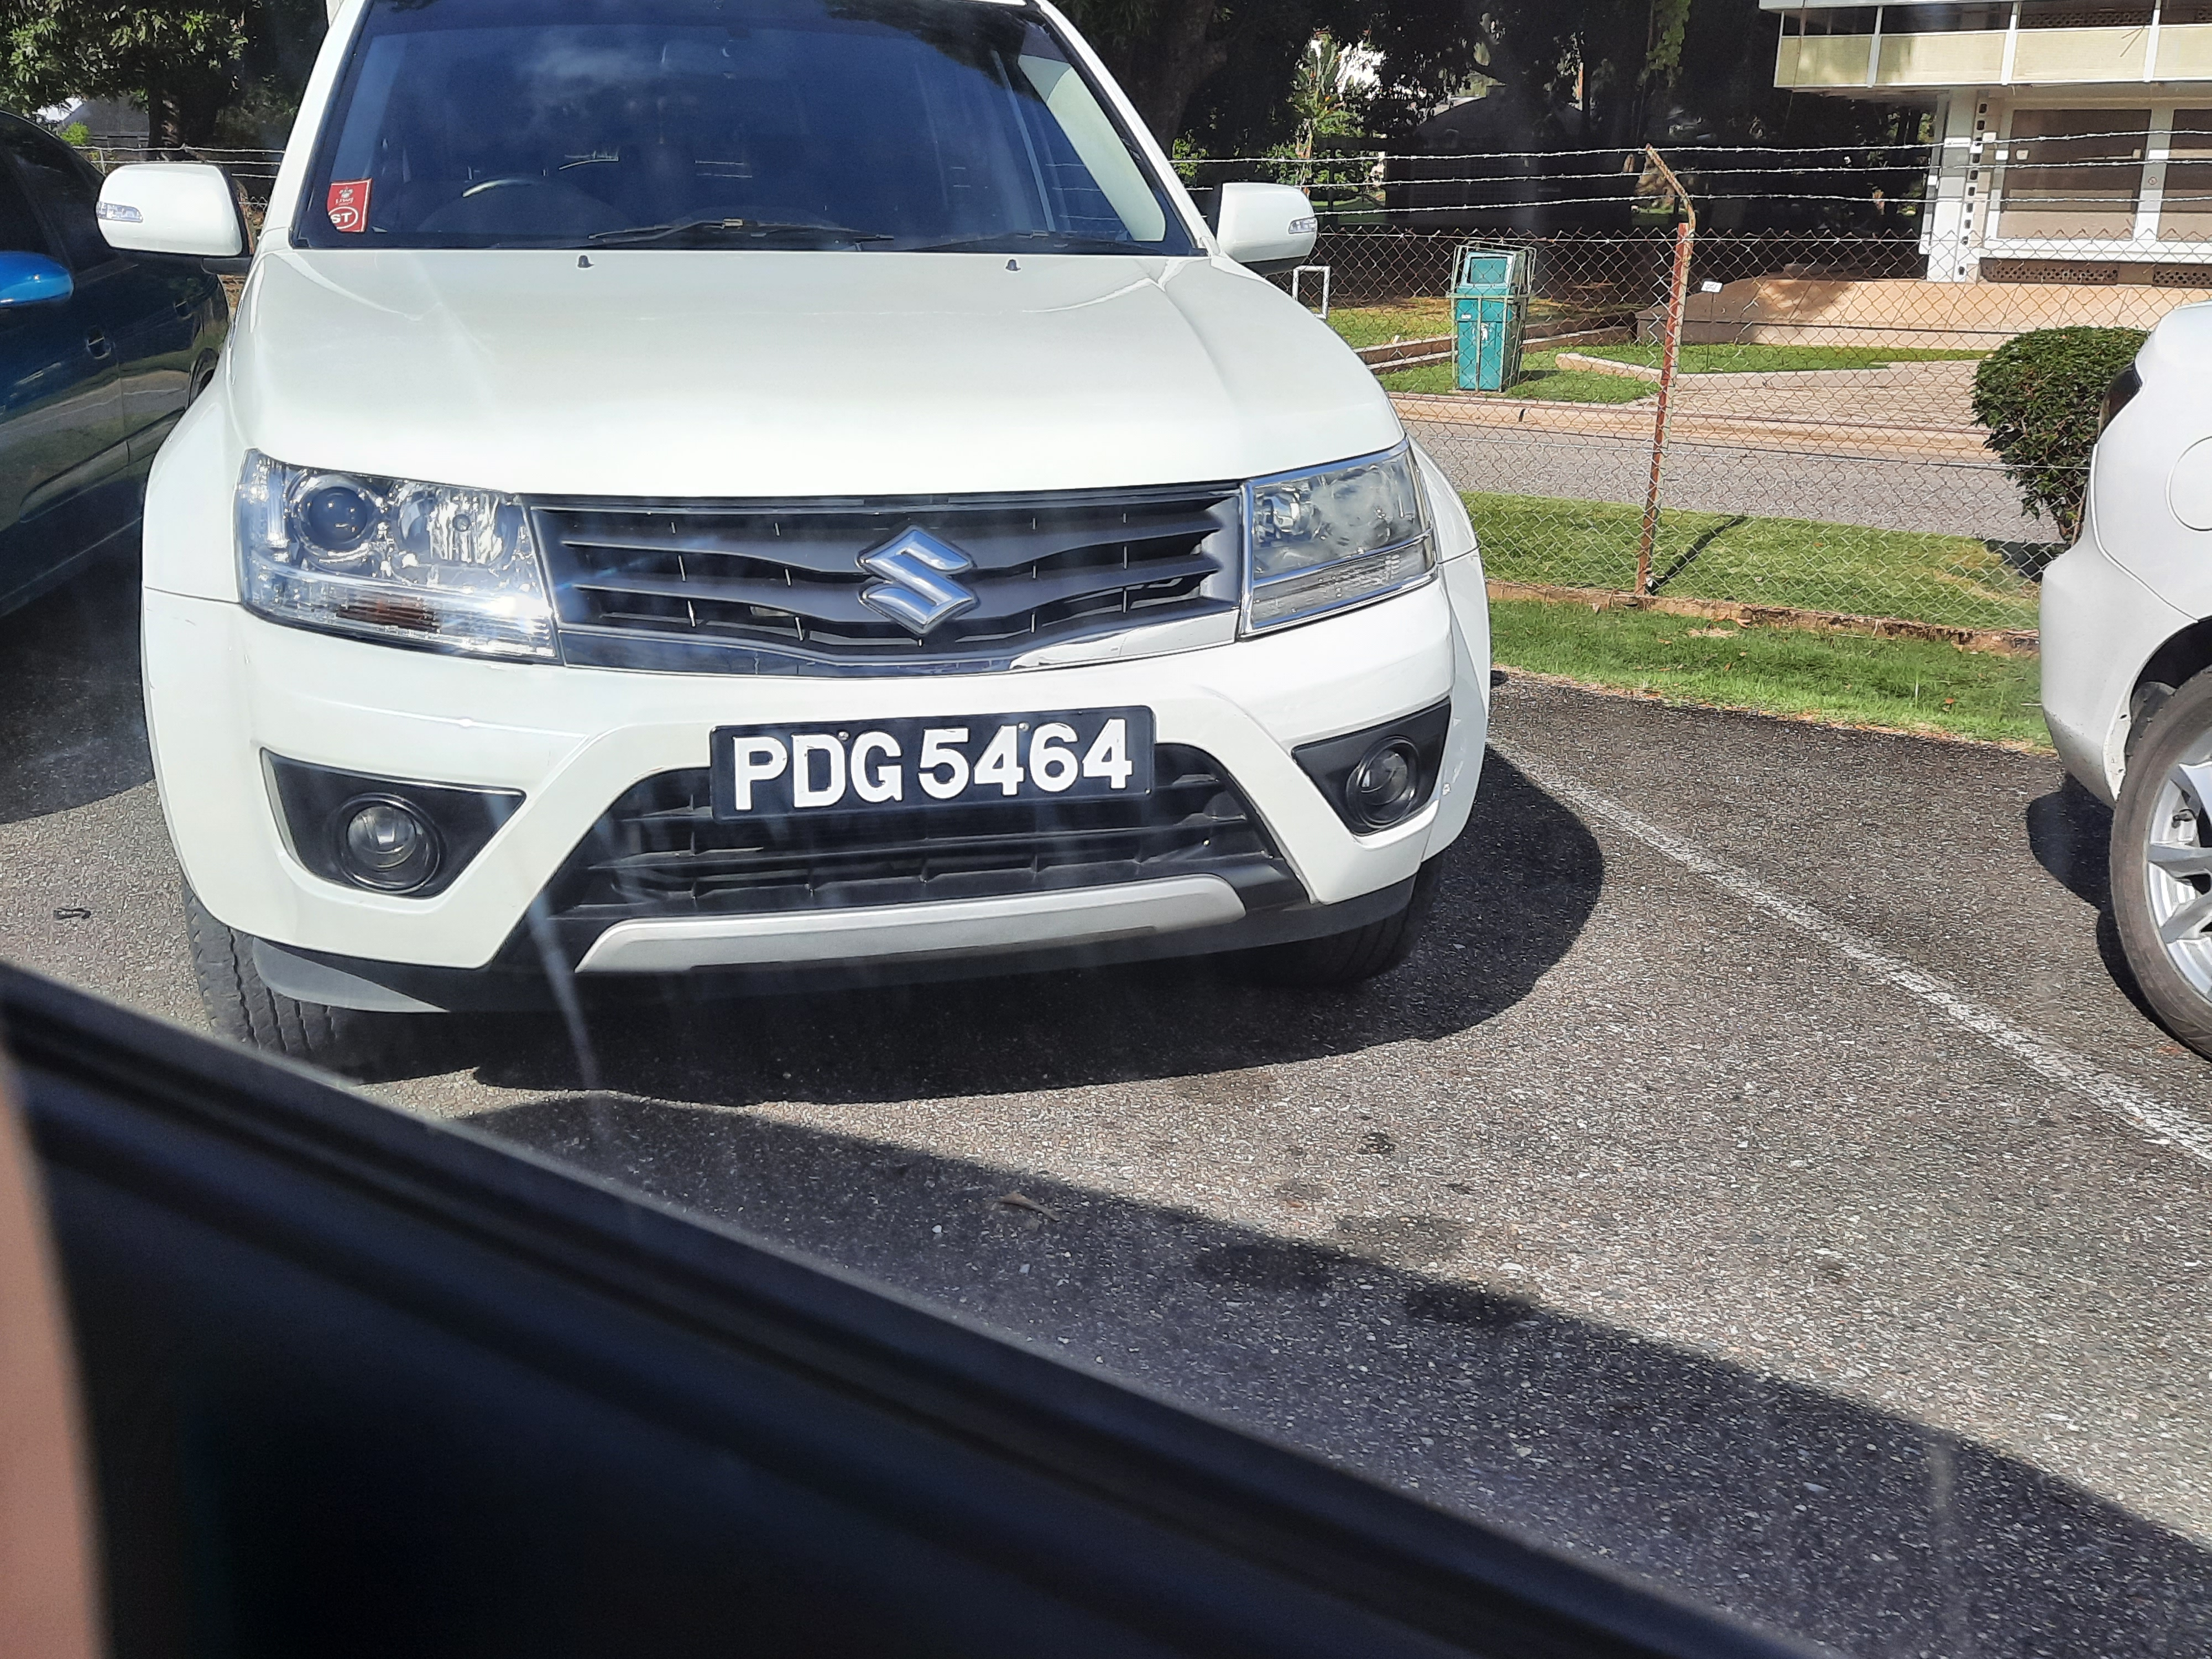License-Plate: (696, 706, 1160, 821)
